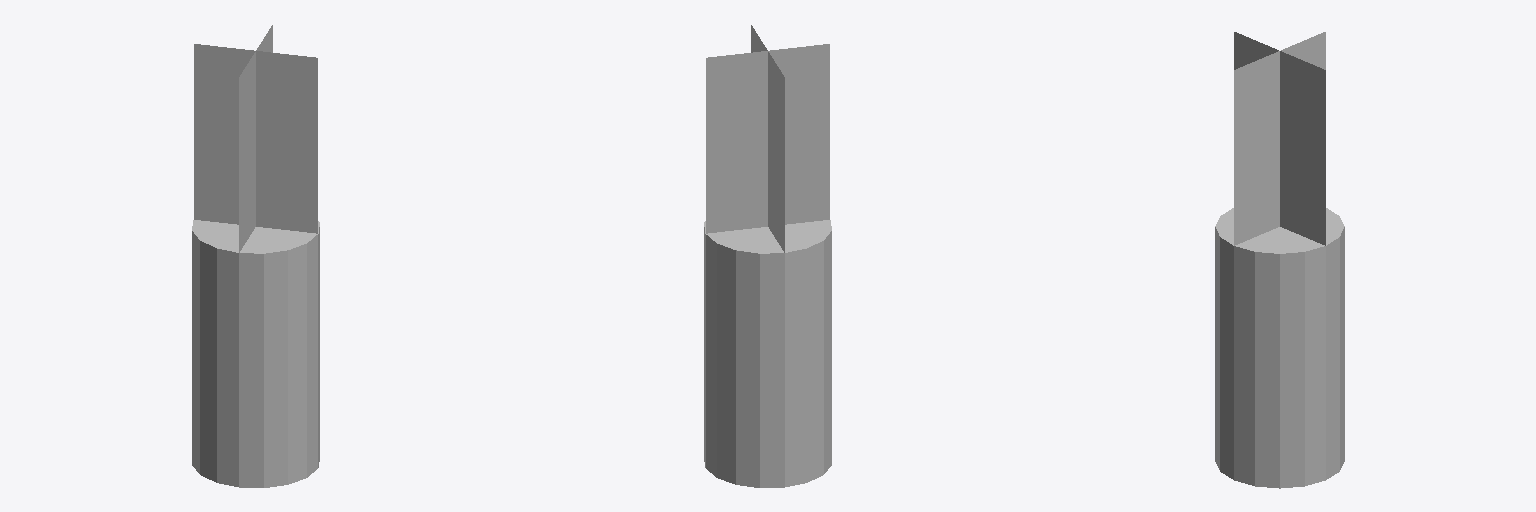
File: homedecor_candle_thick.obj
The picture shows the model from 3 angles: view 1: azimuth 30°, elevation 25°; view 2: azimuth 150°, elevation 25°; view 3: azimuth 270°, elevation 25°; orthographic projection.
Visible parts, largest first — view 1: Cylinder; view 2: Cylinder; view 3: Cylinder.
Boxes of the visible parts, x1,y1,x2,y2 form: Cylinder: [192, 25, 319, 487]; Cylinder: [704, 25, 831, 487]; Cylinder: [1215, 32, 1344, 488].
Bounding box in the file's own units: 0.25 × 0.875 × 0.25.